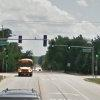Bus: (17, 55, 37, 80)
